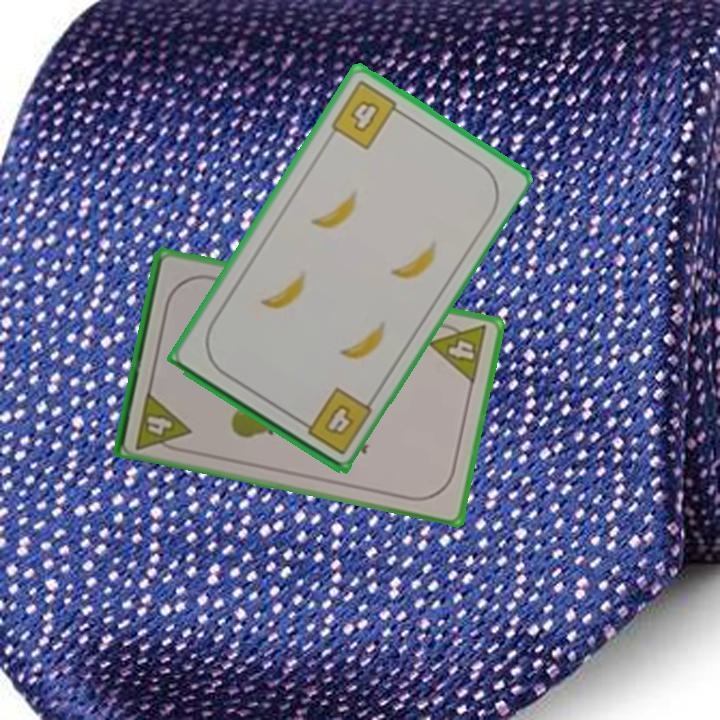4b: (327, 76, 408, 152), (293, 383, 375, 458)
4p: (426, 317, 491, 387), (131, 387, 193, 455)
